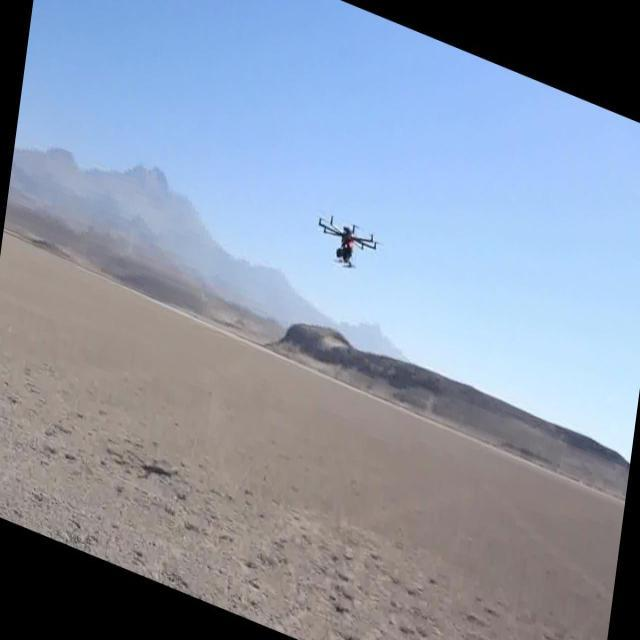drone: (308, 200, 382, 278)
